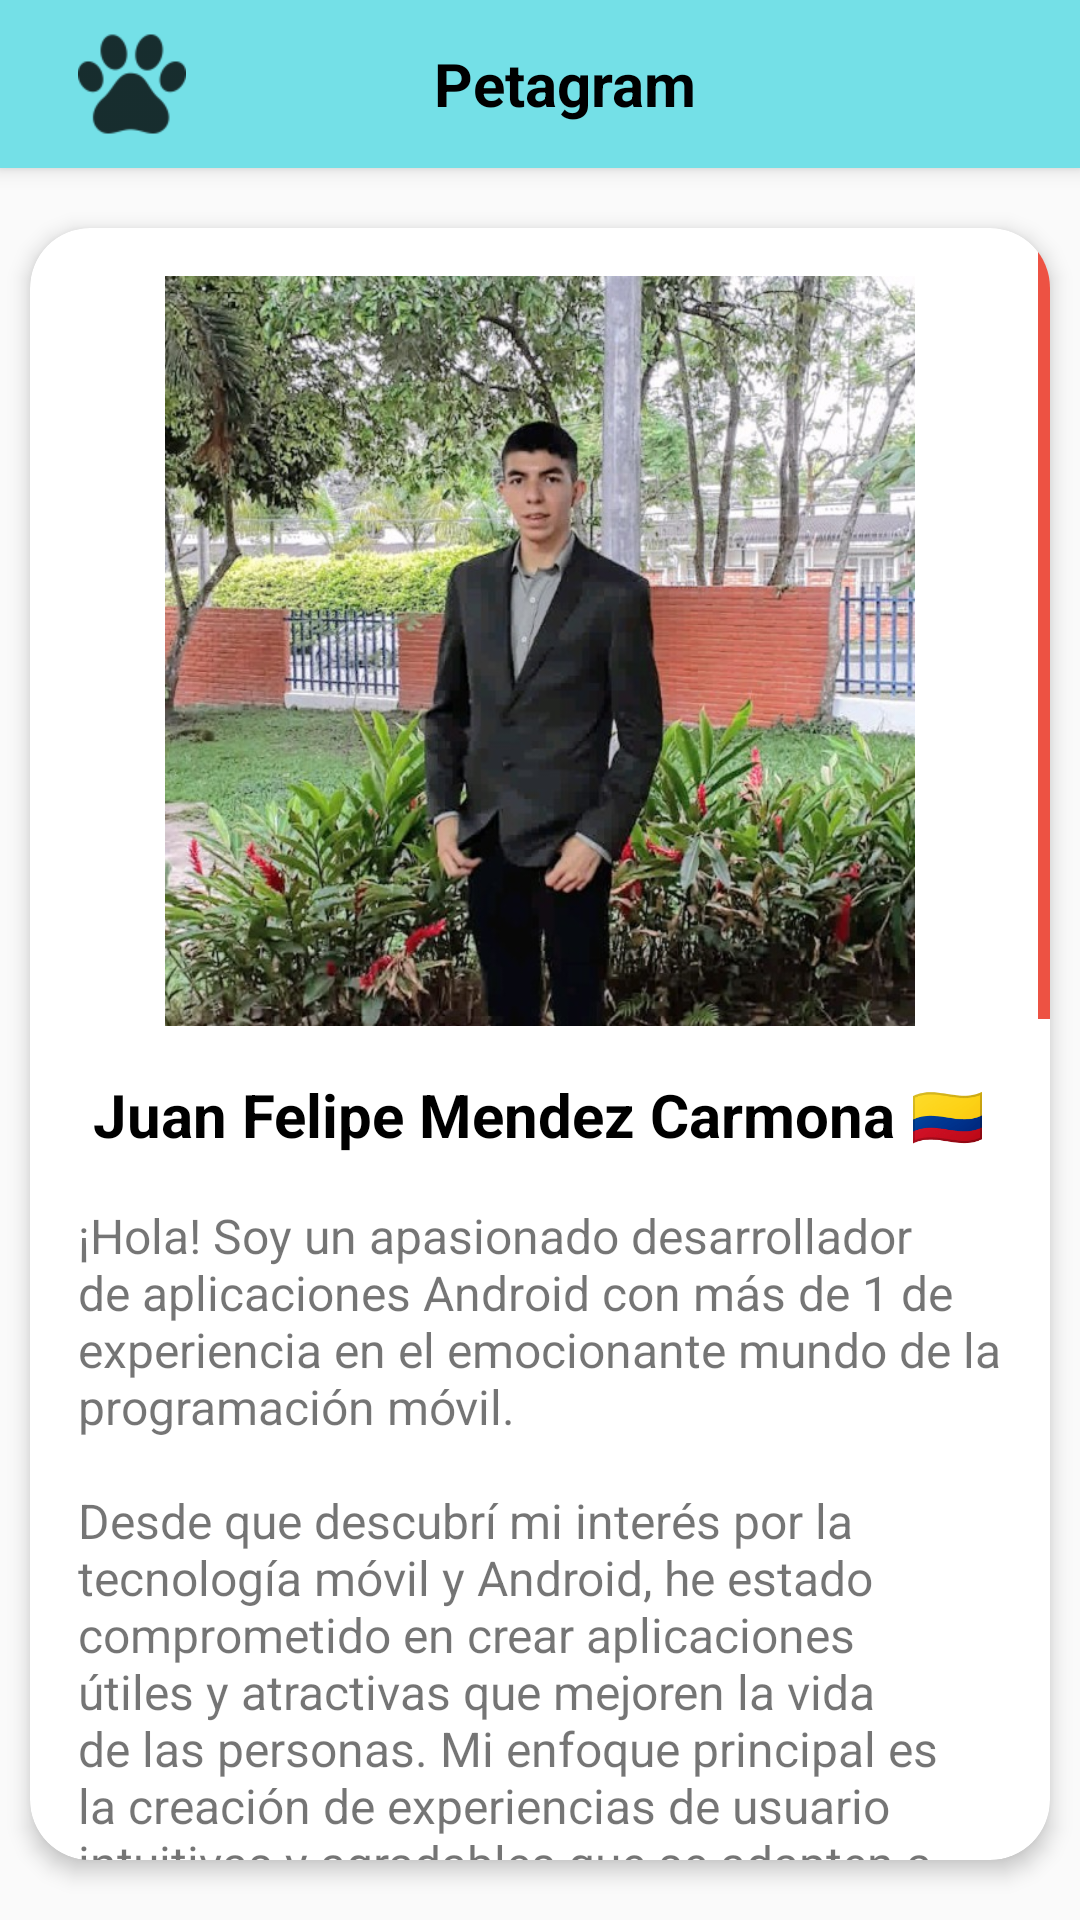

Icon click points for this 1080 x 1920 phone screenshot, format [x,y]:
dog footprint: [132,84]
